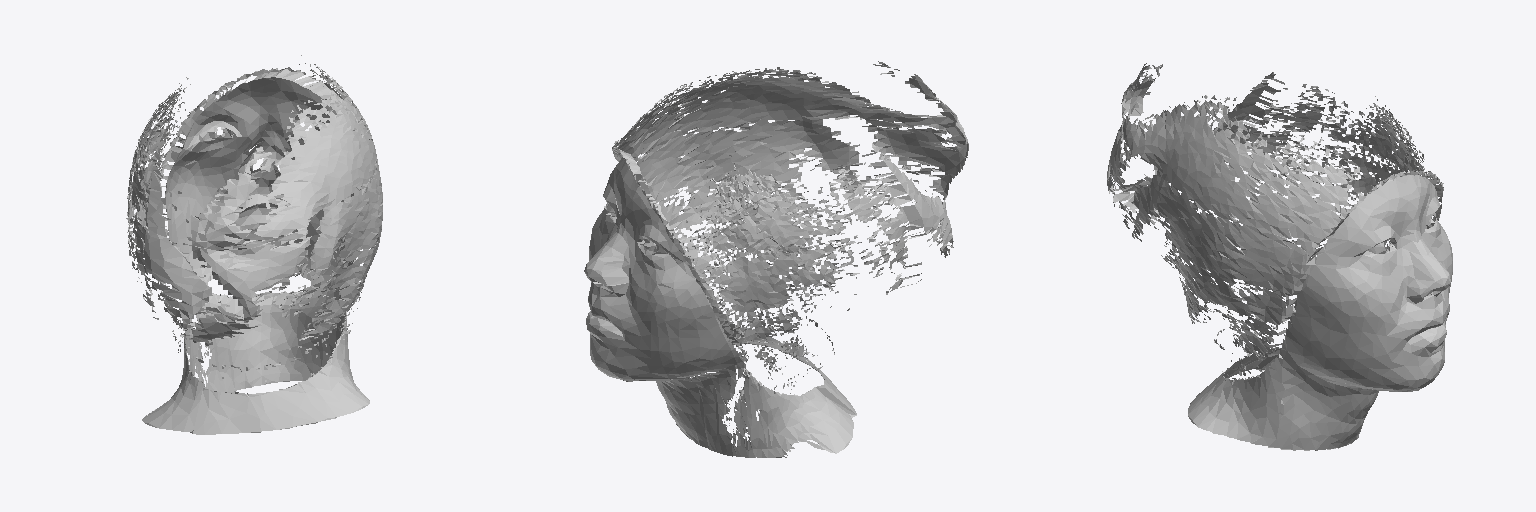
File: lewFace.obj
The picture shows the model from 3 angles: view 1: azimuth 30°, elevation 25°; view 2: azimuth 150°, elevation 25°; view 3: azimuth 270°, elevation 25°; orthographic projection.
Parts seen in each view (by area): view 1: lew; view 2: lew; view 3: lew.
Boxes of the visible parts, x1,y1,x2,y2 form: lew: [126, 55, 382, 434]; lew: [584, 61, 968, 457]; lew: [1107, 63, 1452, 450].
Size of the model in its own units: 6.3 by 7.6 by 7.01.